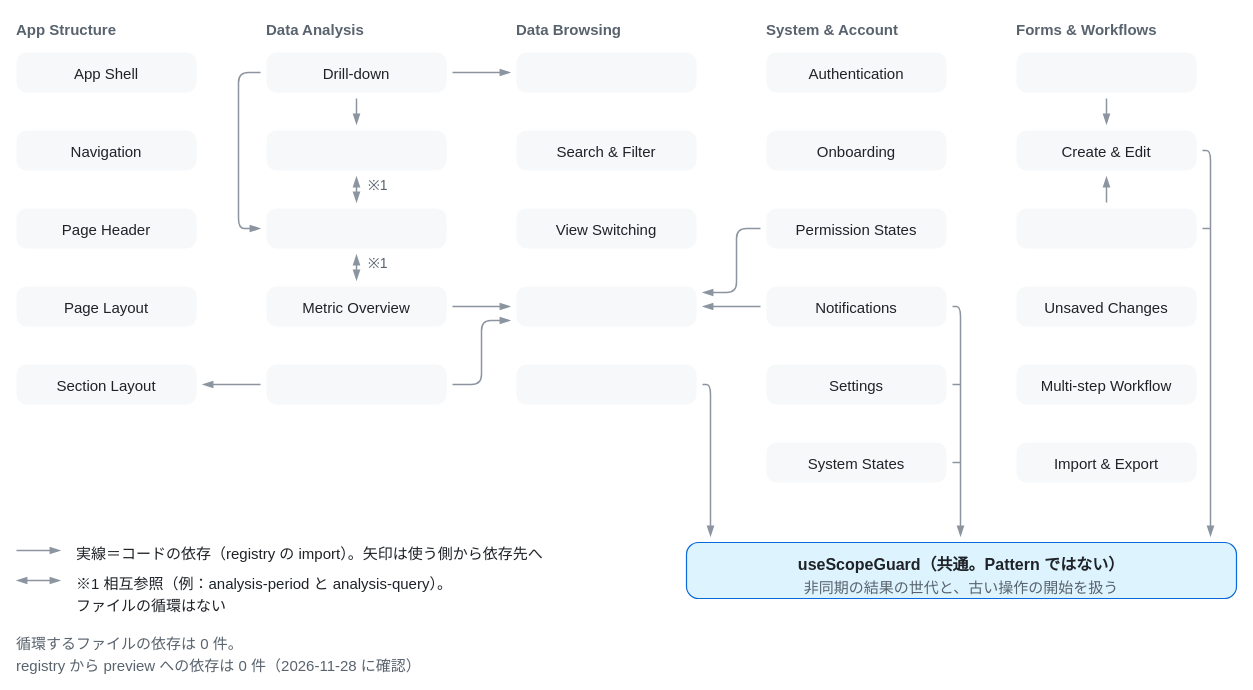
This 1253x690 diagram has some shape labels left out. The box of each missing label's shape, as (x1, y1, x2, y2) in pixels:
Analysis Filters: (266, 130, 446, 170)
Bulk Actions: (516, 364, 696, 404)
Confirmation: (1016, 208, 1196, 248)
Dashboard Layout: (266, 364, 446, 404)
Data States: (516, 286, 696, 326)
Form Layout: (1016, 52, 1196, 92)
List & Detail: (516, 52, 696, 92)
Period Comparison: (266, 208, 446, 248)
